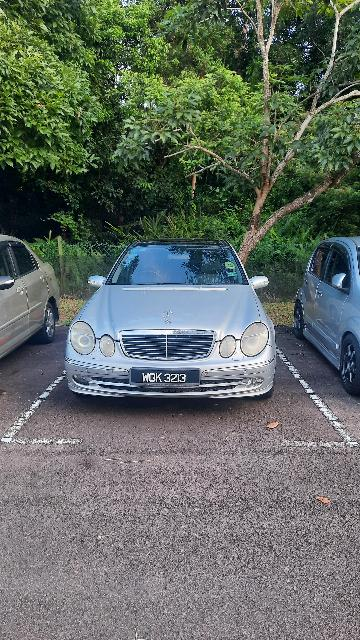License_Plate: (133, 369, 205, 390)
car: (67, 240, 281, 422)
